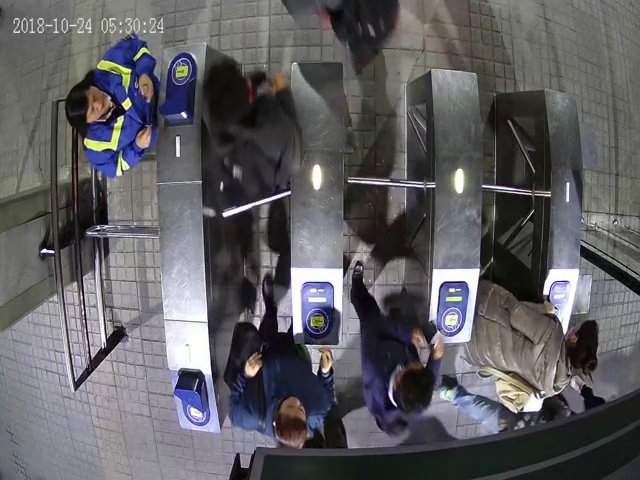Chaleco_azul: (65, 32, 159, 178)
